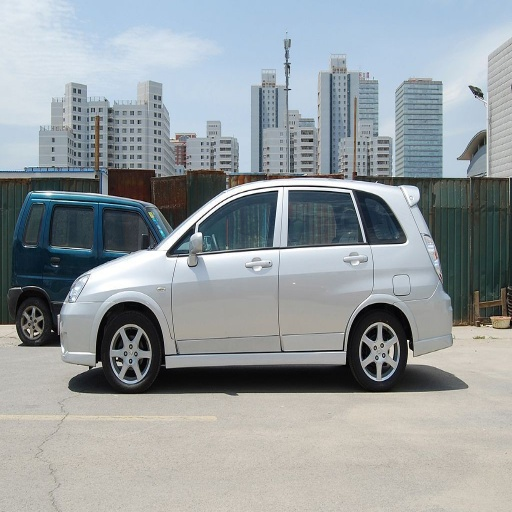back_left_door: (278, 185, 373, 349)
front_glass: (69, 206, 158, 231)
front_left_door: (172, 186, 284, 352)
